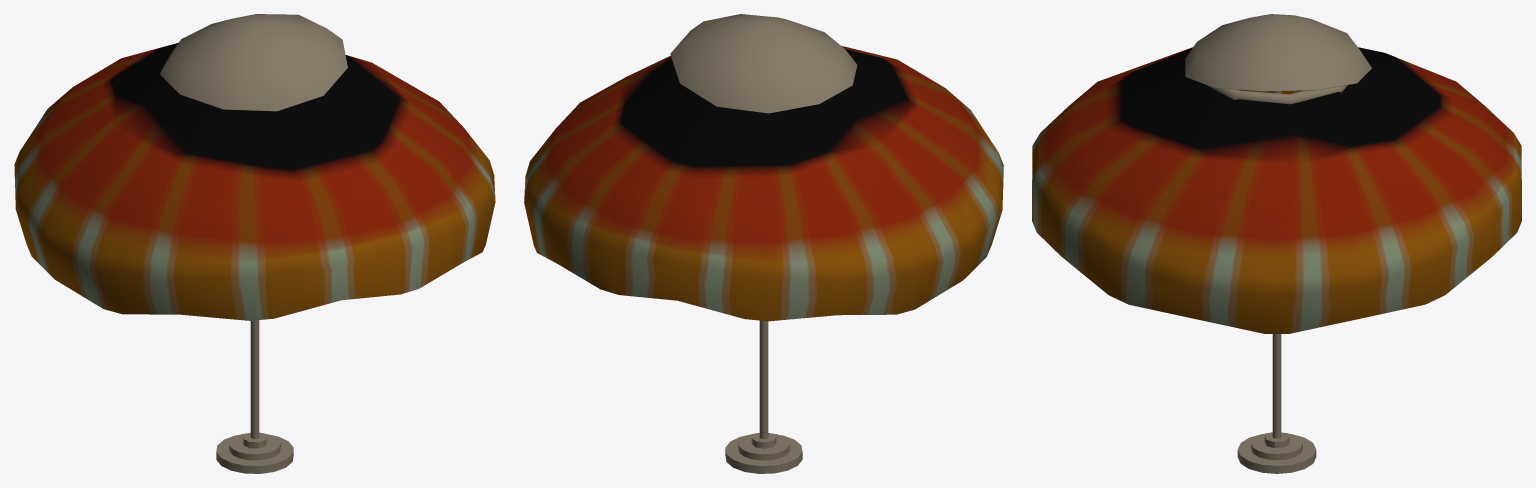
Rendered from SM_umbrella.glb.
3 renders of one model, left to right at view 1: azimuth 30°, elevation 25°; view 2: azimuth 150°, elevation 25°; view 3: azimuth 270°, elevation 25°, orthographic.
Parts seen in each view (by area): view 1: SM_umbrella; view 2: SM_umbrella; view 3: SM_umbrella.
Part boxes in pixels (bbox=[...]): SM_umbrella: bbox=[14, 14, 495, 473]; SM_umbrella: bbox=[524, 14, 1003, 473]; SM_umbrella: bbox=[1032, 14, 1521, 473].
Bounding box in the file's own units: 7.63 × 7.6 × 7.68.
3 materials, 1 textured.
